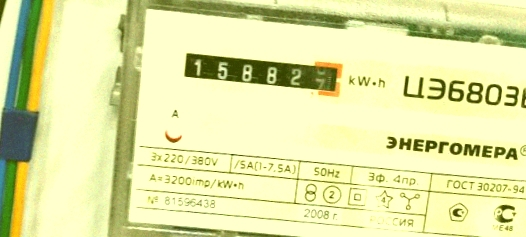1: (189, 55, 203, 76)
2: (287, 65, 302, 86)
5: (214, 58, 228, 80)
7: (312, 75, 325, 90)
8: (238, 60, 253, 83), (263, 63, 278, 86)
screen: (173, 38, 352, 104)
